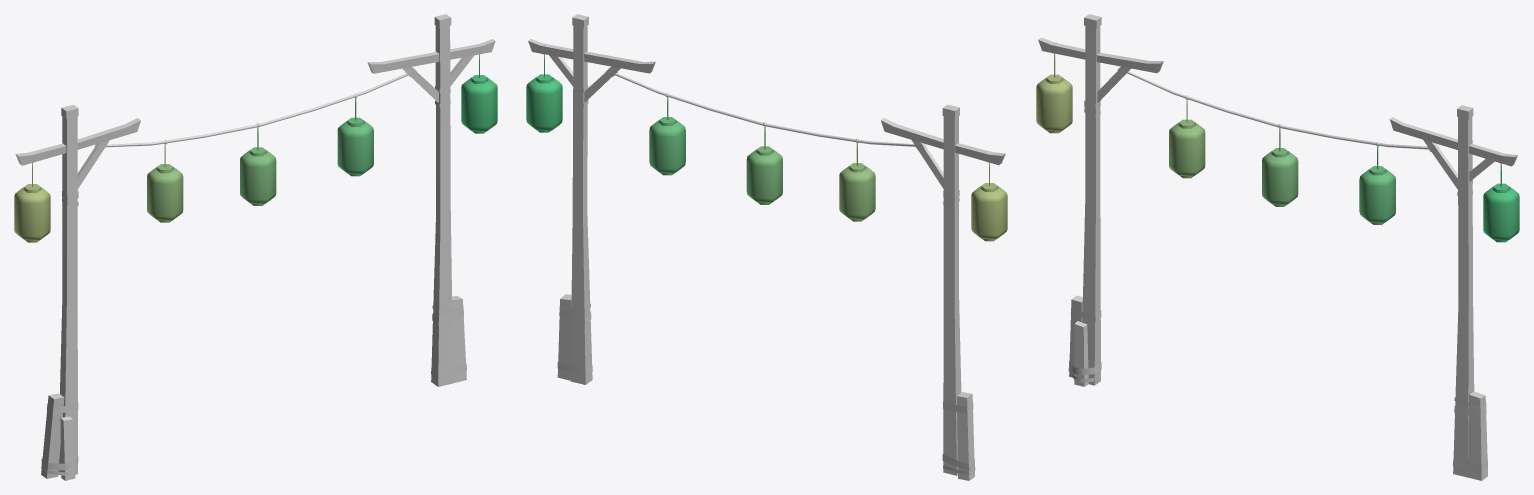
The model's file is Five-Lantern Festival Gate.fbx.
3 views of the same model, side by side, from view 1: azimuth 30°, elevation 25°; view 2: azimuth 150°, elevation 25°; view 3: azimuth 330°, elevation 25° (orthographic).
Parts seen in each view (by area): view 1: Five-Lantern Festival Gate; view 2: Five-Lantern Festival Gate; view 3: Five-Lantern Festival Gate.
Part boxes in pixels (left/top/right/bottom): Five-Lantern Festival Gate: left=14, top=14, right=497, bottom=480; Five-Lantern Festival Gate: left=526, top=14, right=1007, bottom=480; Five-Lantern Festival Gate: left=1036, top=14, right=1519, bottom=480.
Size of the model in its own units: 7.99 by 5.85 by 0.5302.
